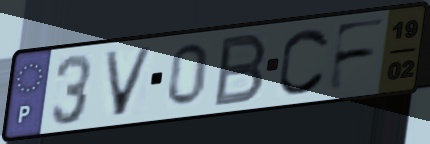0: (163, 40, 213, 110)
3: (49, 51, 95, 128)
B: (209, 30, 270, 110)
C: (275, 26, 333, 98)
F: (324, 15, 390, 95)
V: (101, 44, 157, 120)
